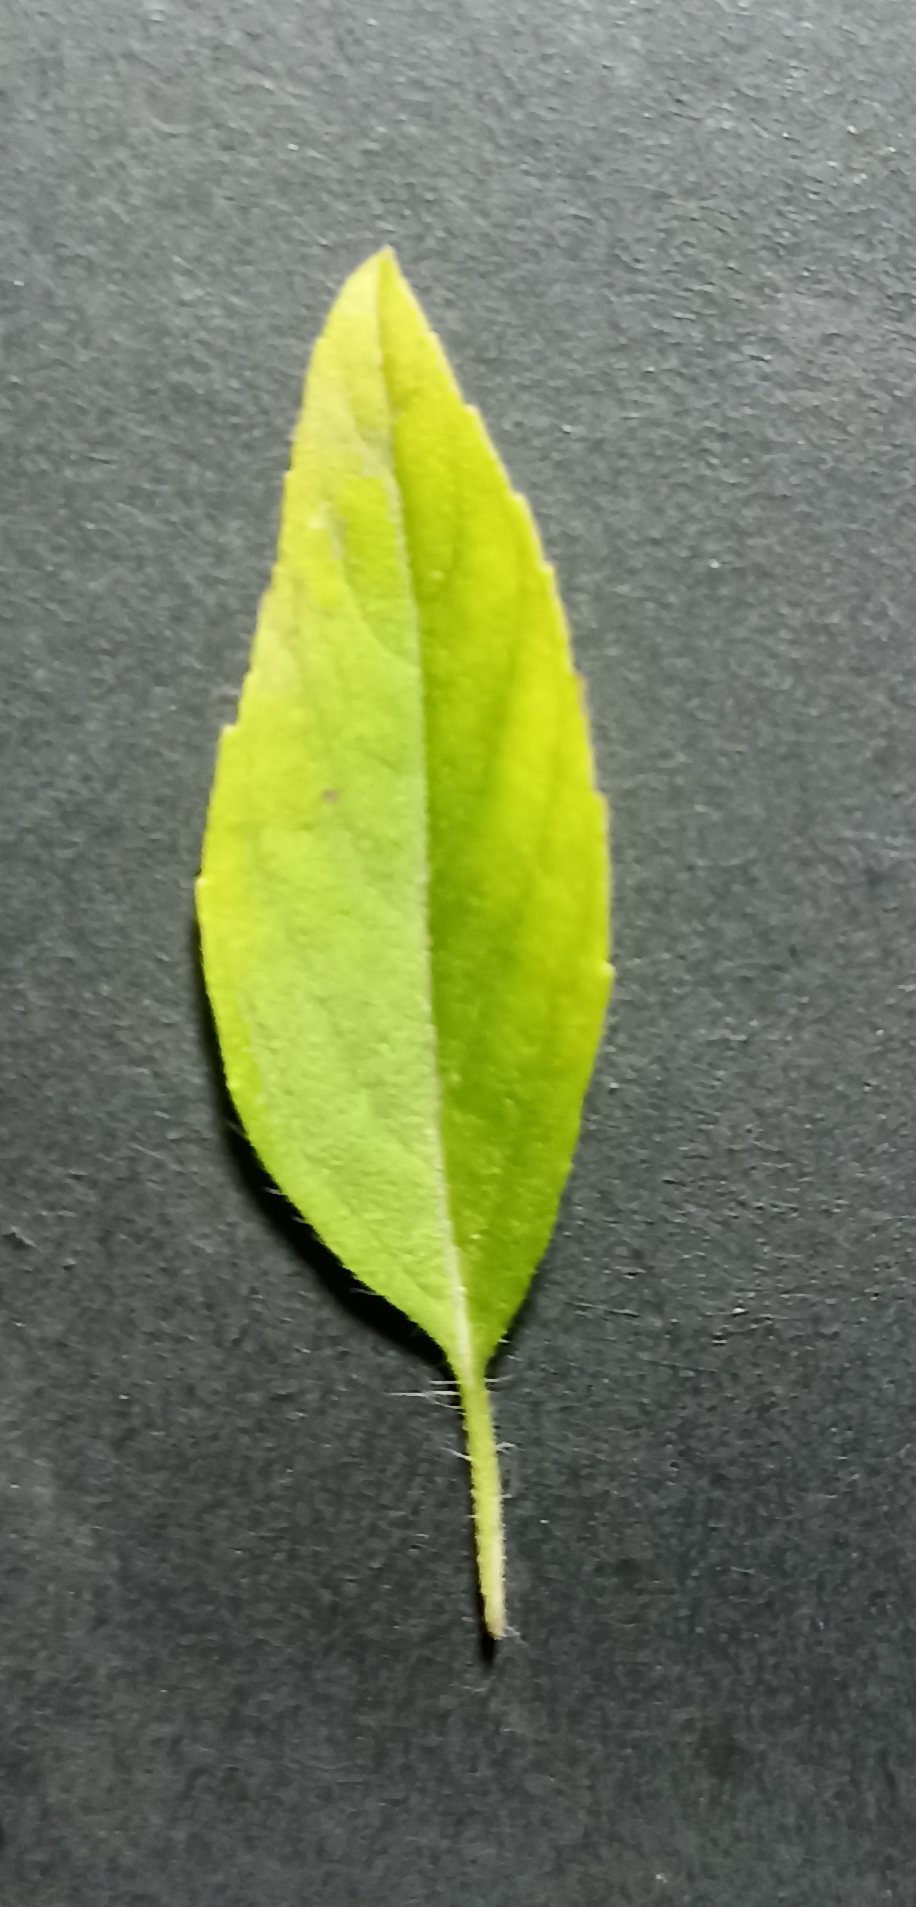Unhealthy: (190, 238, 625, 1350)
